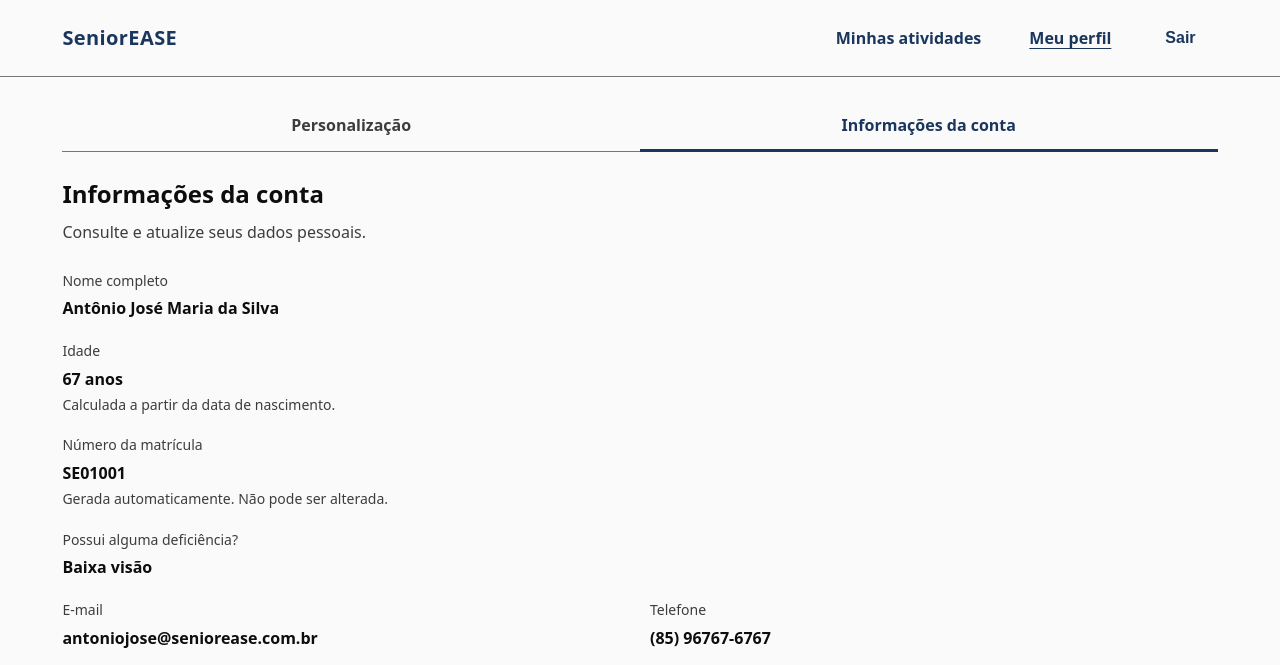
Test: ProfilePage › navega para Informações da conta e exibe dados do usuário
The width and height of the screenshot is (1280, 665).
expect the text "Antônio José Maria da Silva" is shown: met, box [62,297,279,319]
expect the text "67 anos" is shown: met, box [62,368,123,390]
Click the tab "Personalização". click: point(351, 125)
box: [291,114,411,136]
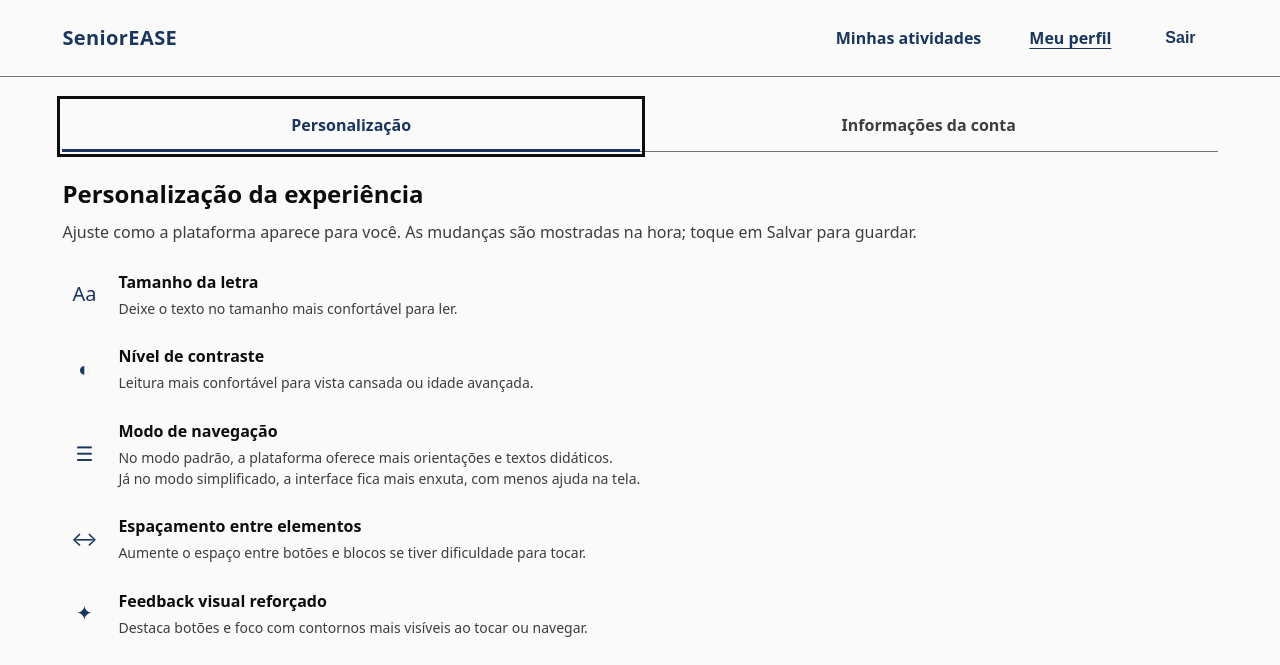
expect the heading "Personalização da experiência" is shown: met, box [62,177,424,210]
